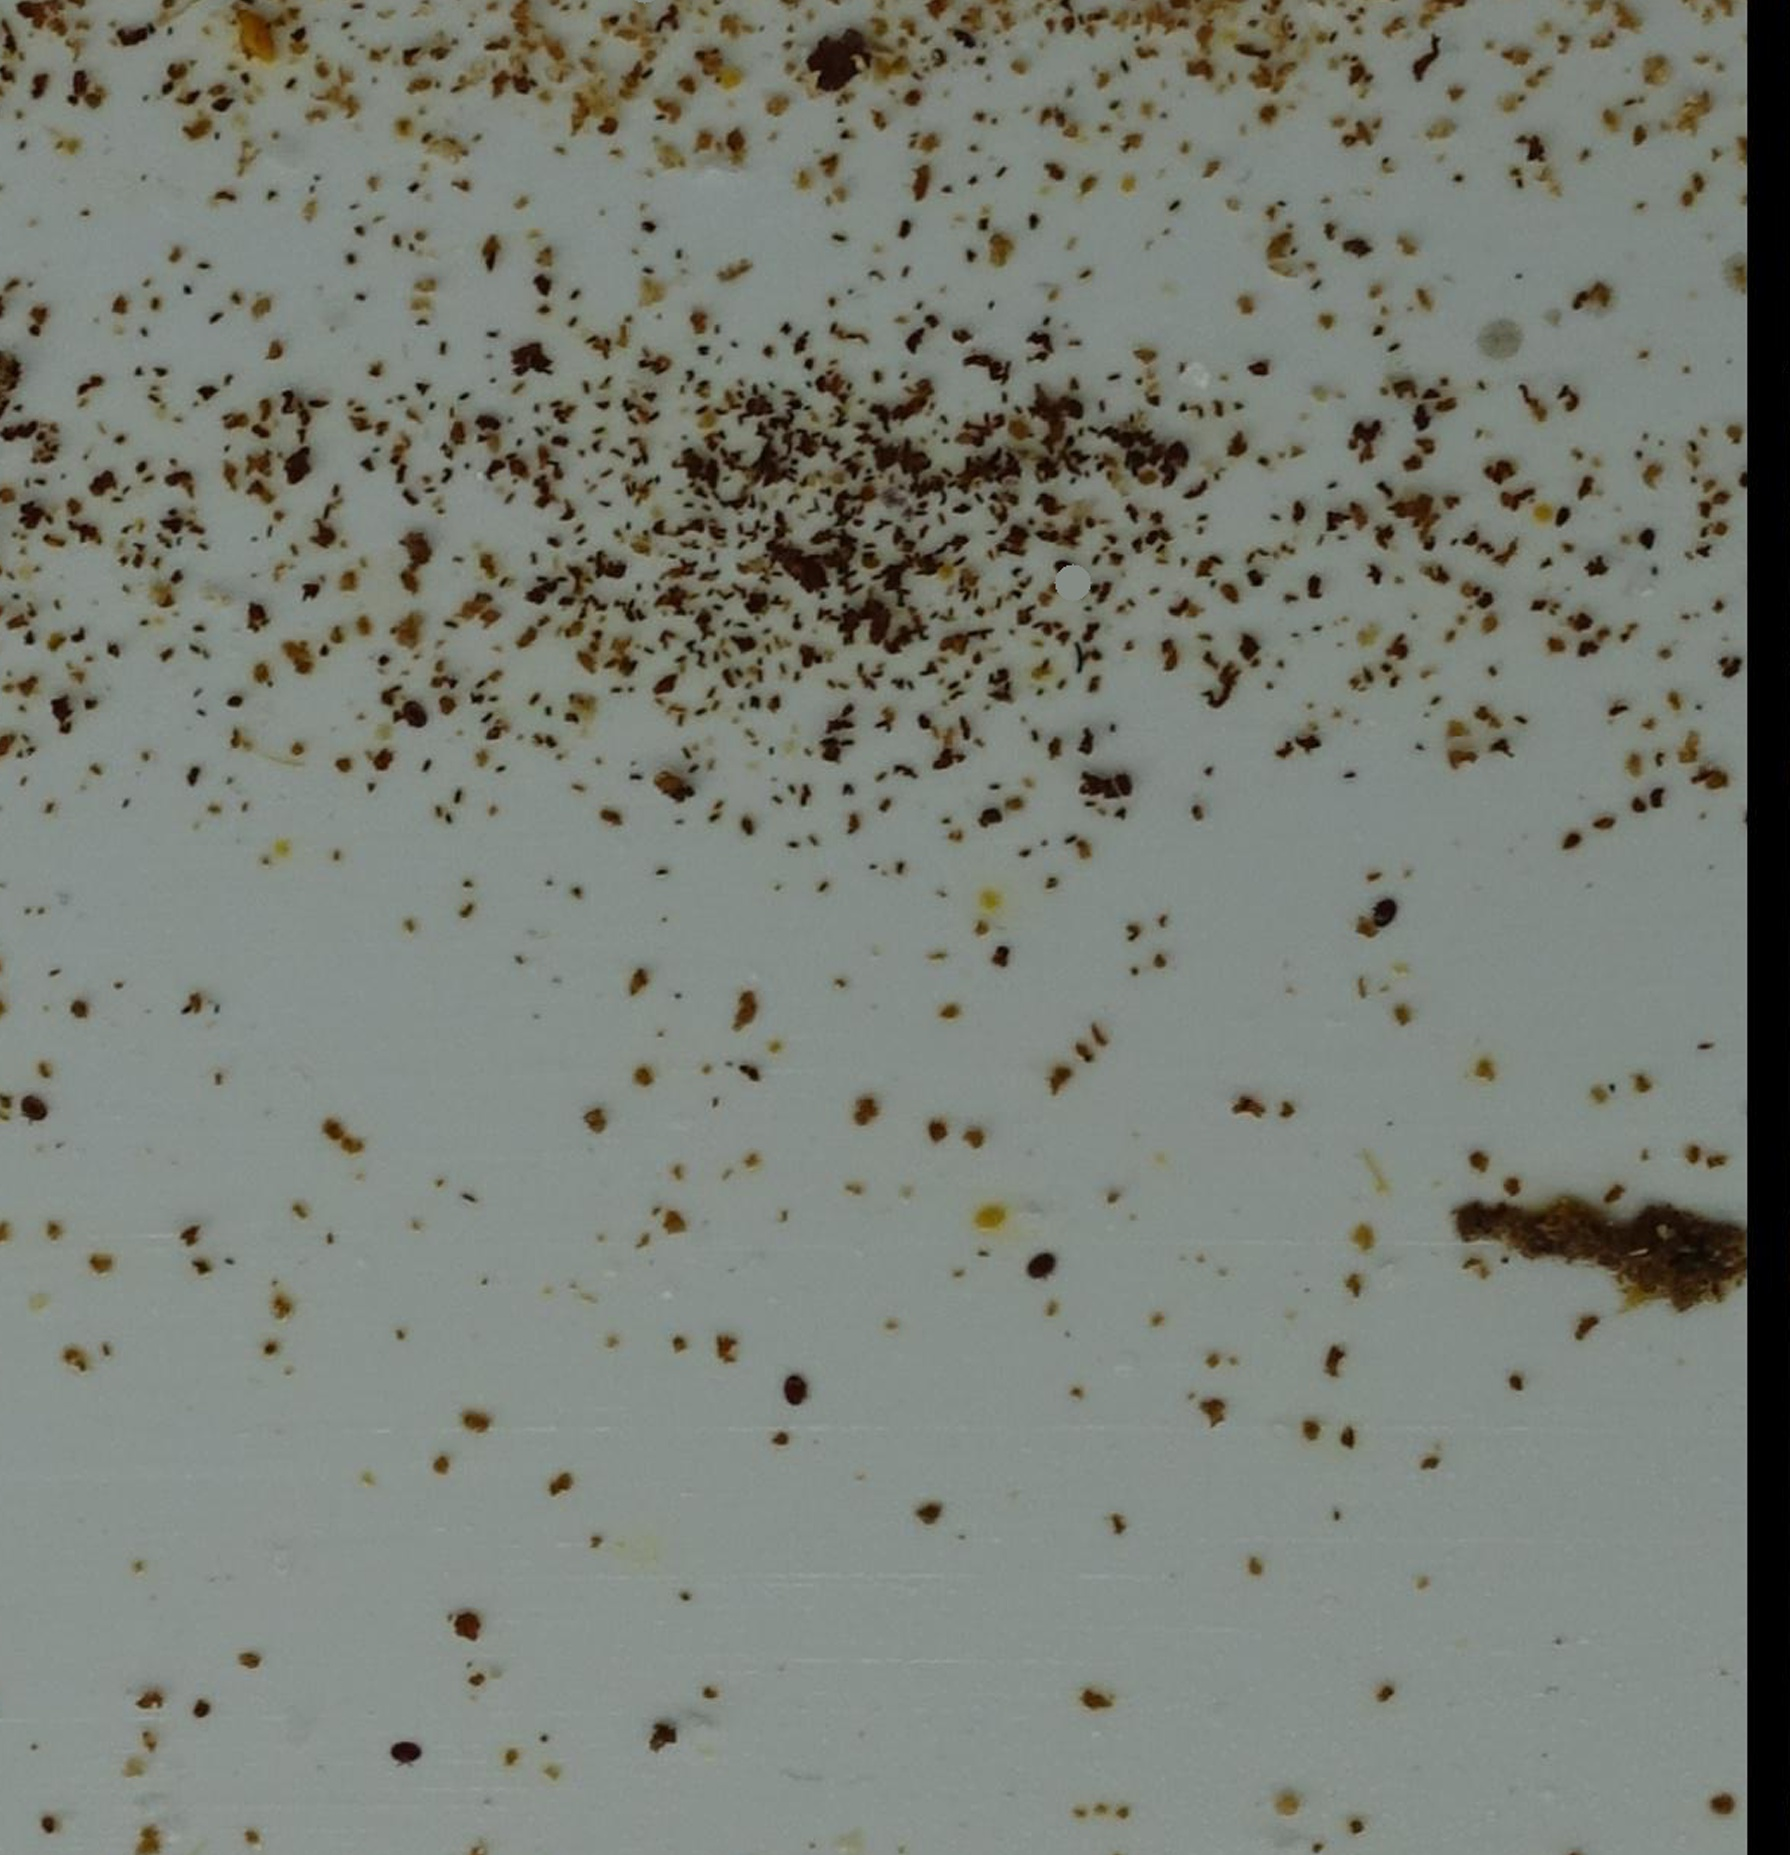Varroa: (942, 15, 985, 60), (1366, 903, 1398, 937), (778, 1371, 810, 1404), (392, 1731, 422, 1766), (1025, 1252, 1051, 1280), (23, 1091, 50, 1120), (396, 696, 422, 724)
